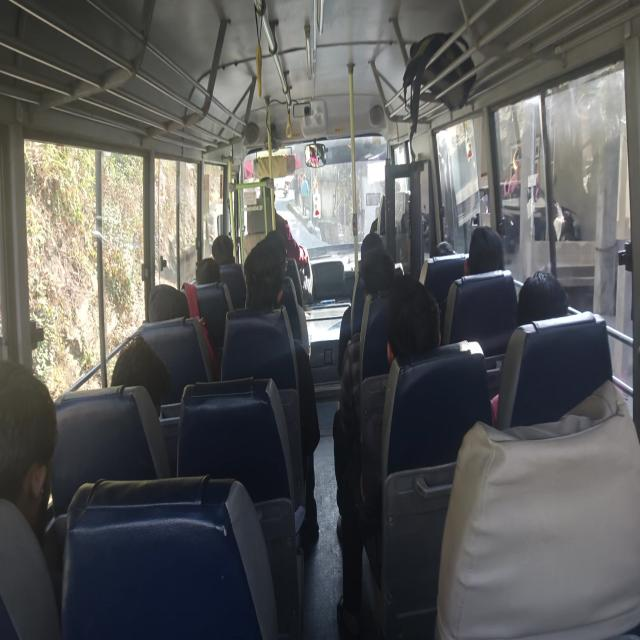person: (336, 274, 441, 636), (242, 230, 320, 545), (490, 268, 569, 425), (0, 359, 58, 537), (110, 334, 171, 419), (386, 275, 441, 365), (516, 268, 569, 326), (464, 225, 504, 275), (147, 284, 190, 322), (211, 234, 235, 264), (195, 257, 220, 285), (300, 172, 308, 215)
